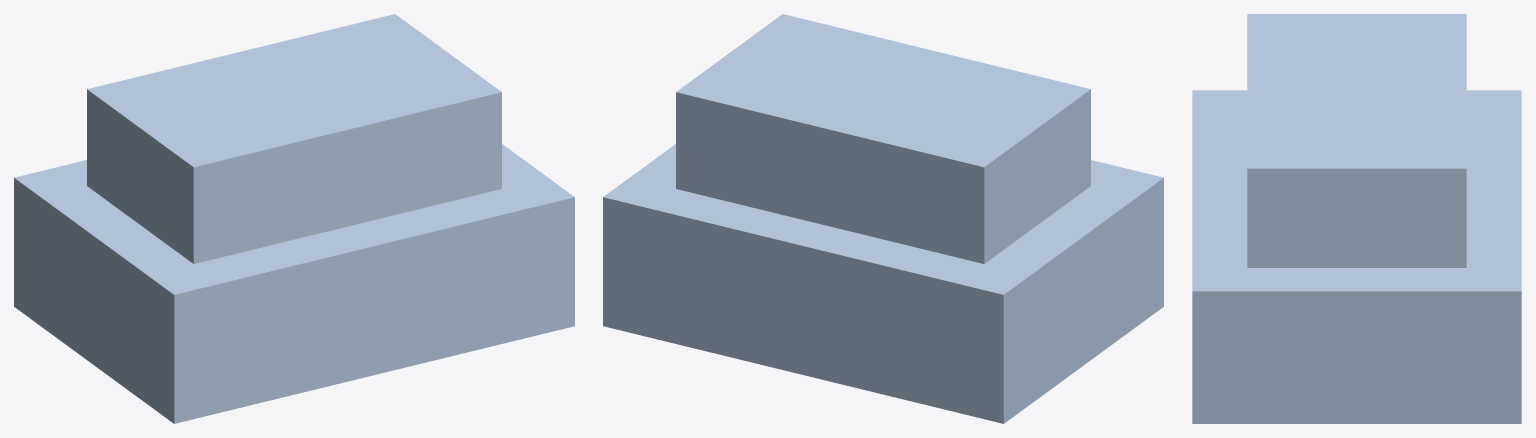
The model's file is TPL-OFF-BLOCK.glb.
3 renders of one model, left to right at view 1: azimuth 30°, elevation 25°; view 2: azimuth 150°, elevation 25°; view 3: azimuth 270°, elevation 25°, orthographic. The views are drawn at different scales.
Visible parts, largest first — view 1: Office Block; view 2: Office Block; view 3: Office Block.
Part boxes in pixels (left/top/right/bottom): Office Block: left=14, top=14, right=574, bottom=423; Office Block: left=603, top=14, right=1163, bottom=423; Office Block: left=1192, top=14, right=1521, bottom=423.
Bounding box in the file's own units: 22 × 11.85 × 15.23.
